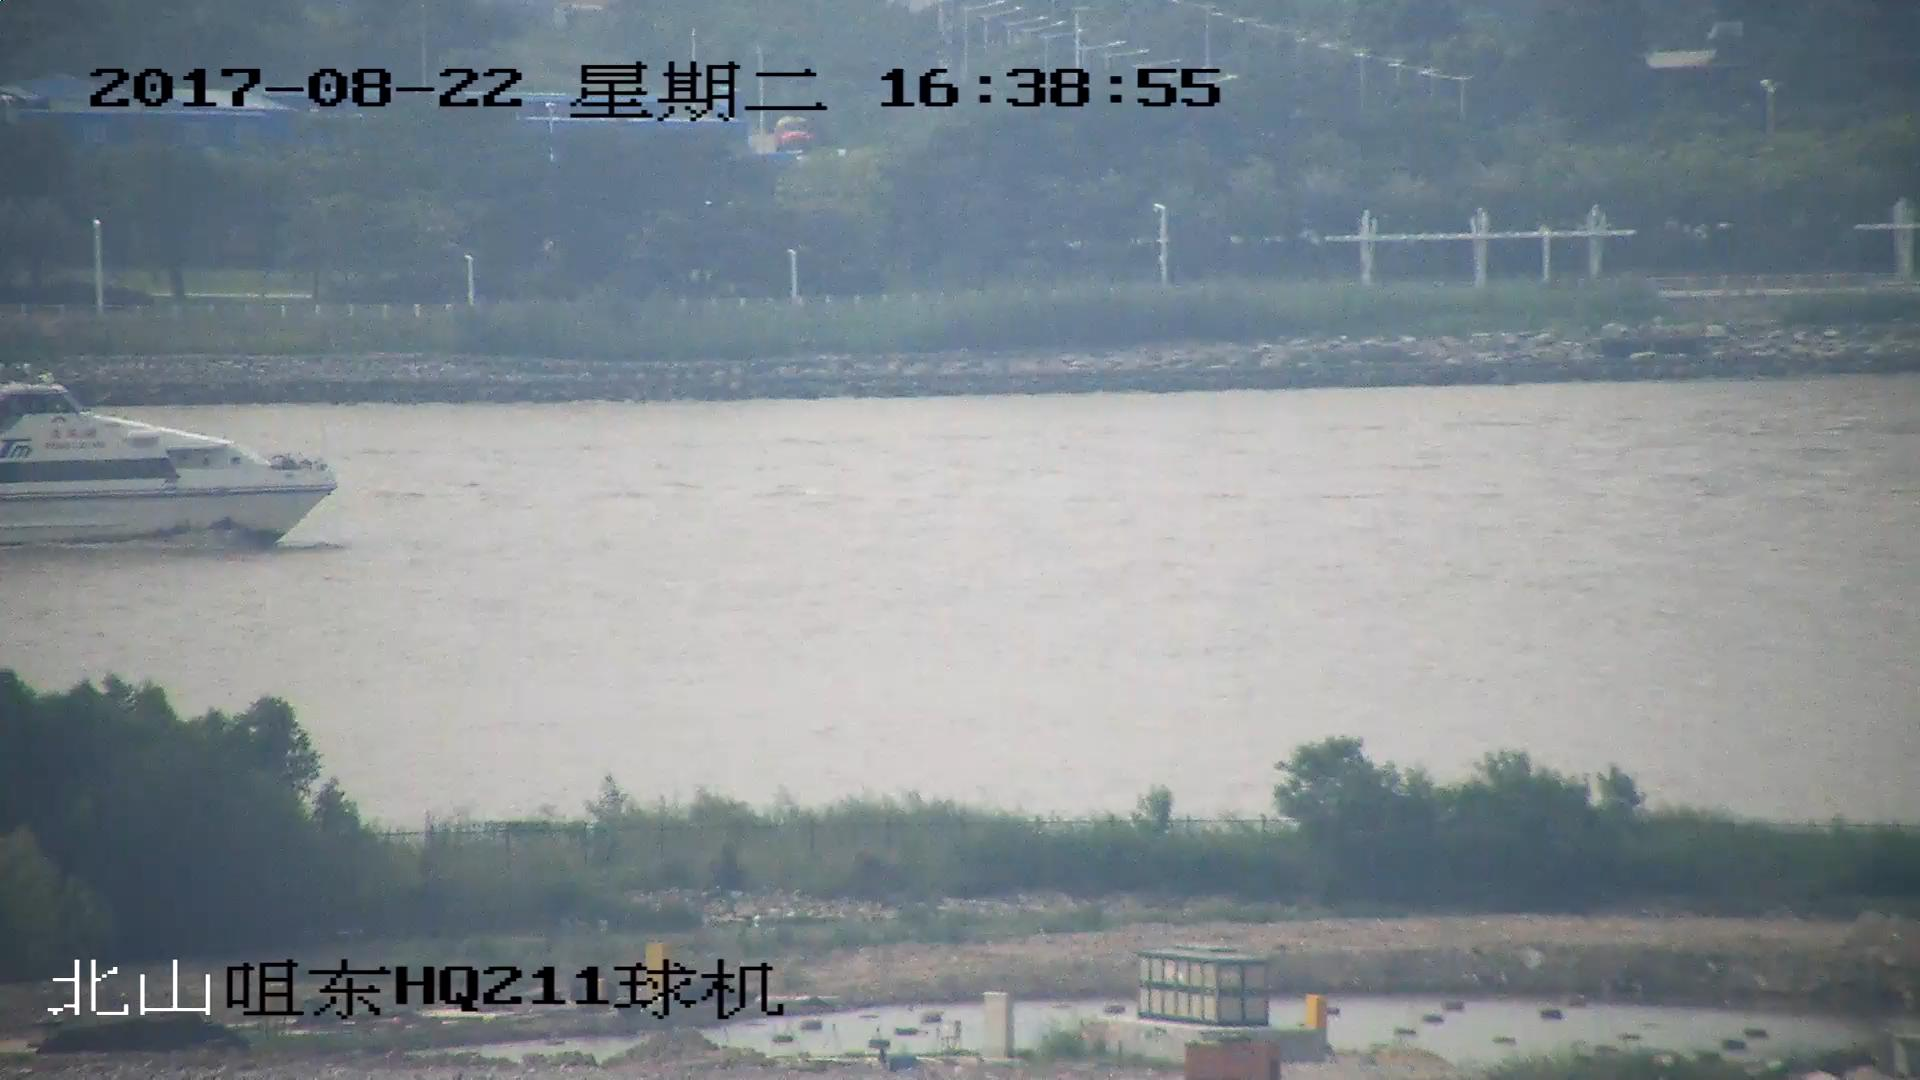passenger ship: (1, 371, 344, 559)
